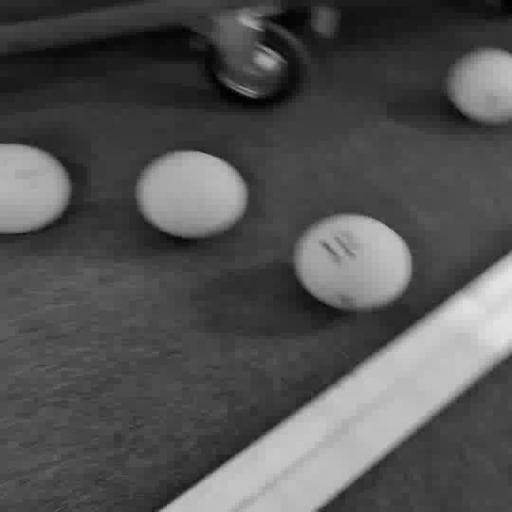fuel: (293, 214, 412, 311), (136, 150, 248, 239), (0, 144, 72, 234), (445, 48, 511, 124)
